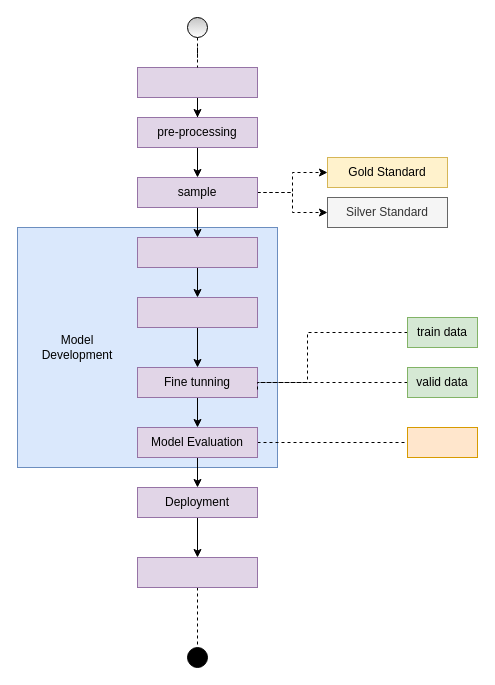
Some shapes in this 495 by 685 pixel diagram are drawn without their labels. The shapes that lost their labels are listed below. From the top down, each one's centre as x and y in pixels, then its label:
At point (197, 82): "Data Collection".
At point (197, 252): "Image pre-processing".
At point (197, 312): "Split your data".
At point (442, 442): "test data".
At point (197, 572): "Monitoring".
